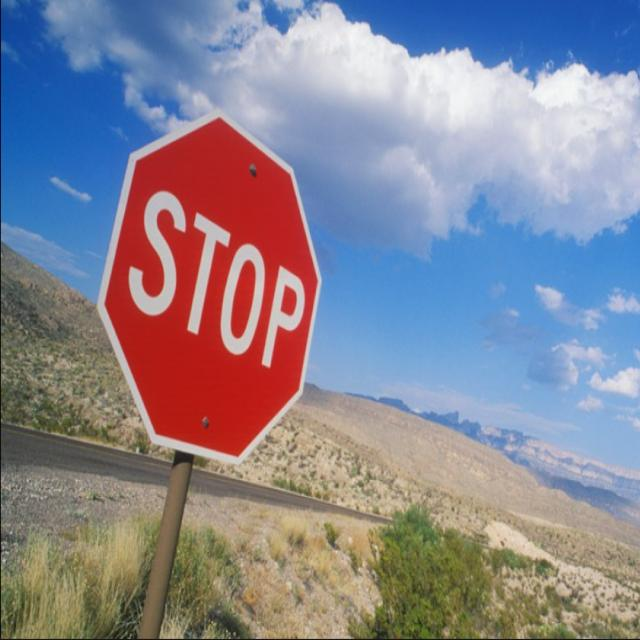stop-sign: (117, 78, 310, 500)
